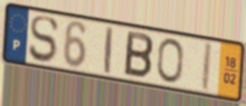6: (60, 18, 89, 71)
B: (122, 29, 155, 82)
I: (199, 40, 215, 95), (103, 24, 115, 77)
O: (156, 36, 185, 86)
S: (27, 15, 60, 65)
